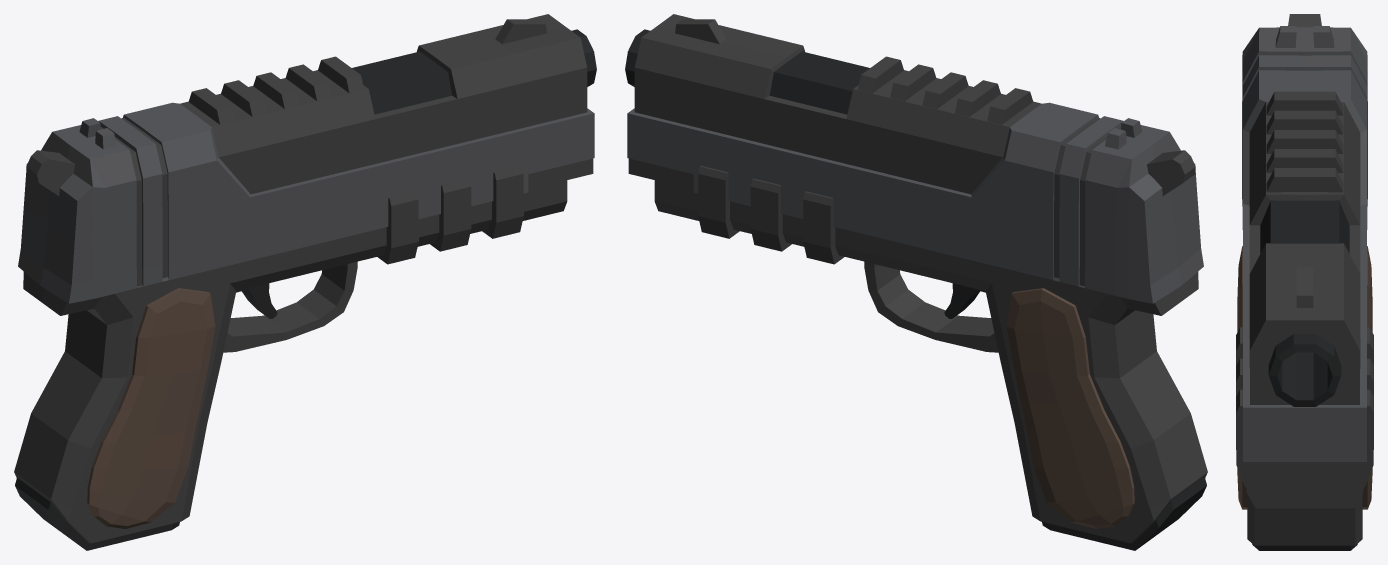
File: Pistol-Z7aOjJu583.glb
The picture shows the model from 3 angles, left to right: view 1: azimuth 30°, elevation 25°; view 2: azimuth 150°, elevation 25°; view 3: azimuth 270°, elevation 25°; orthographic projection. The views are drawn at different scales.
Visible parts, largest first — view 1: Pistol-Z7aOjJu583; view 2: Pistol-Z7aOjJu583; view 3: Pistol-Z7aOjJu583.
Part boxes in pixels (<box>): Pistol-Z7aOjJu583: <box>14,14,596,550</box>; Pistol-Z7aOjJu583: <box>625,14,1207,550</box>; Pistol-Z7aOjJu583: <box>1236,14,1373,550</box>.
Bounding box in the file's own units: 0.2496 × 0.175 × 0.0445.
